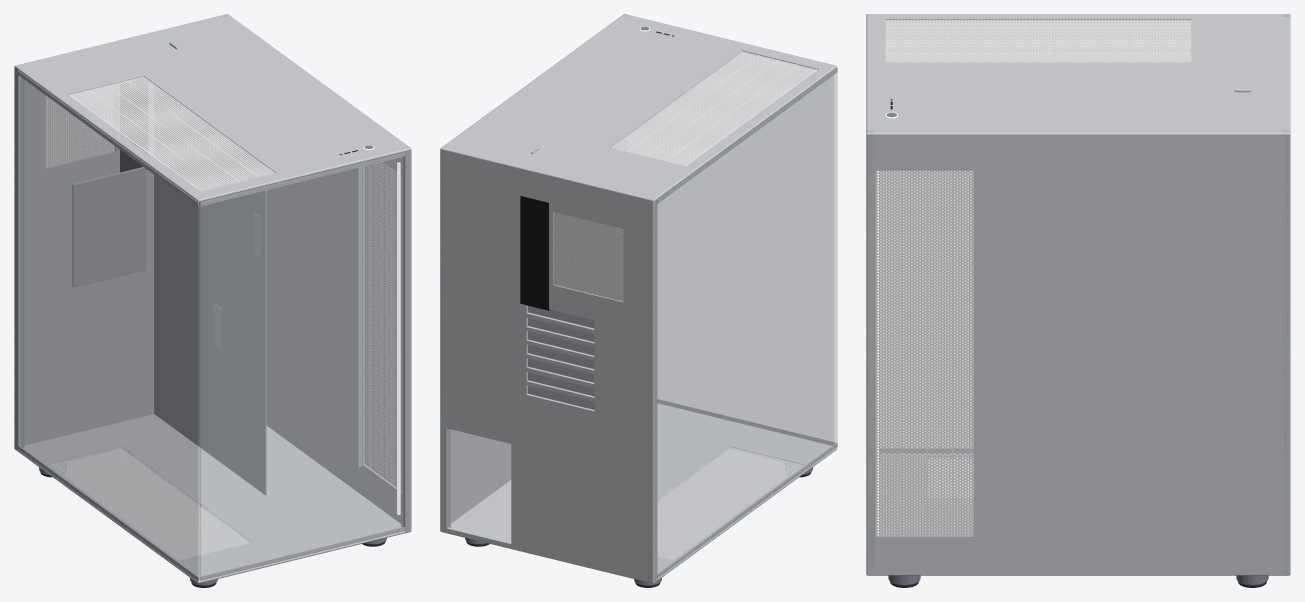
Rendered from case-bitlab-tower.glb.
3 renders of one model, left to right at view 1: azimuth 30°, elevation 25°; view 2: azimuth 150°, elevation 25°; view 3: azimuth 270°, elevation 25°, orthographic. The views are drawn at different scales.
Parts seen in each view (by area): view 1: case_CaseSolid, glass_front, glass_side, case_Perforated, case_RGB; view 2: case_CaseSolid, glass_side, glass_front, case_Perforated; view 3: case_CaseSolid, case_Perforated, glass_side, case_RGB.
Part boxes in pixels (bbox=[...]): case_CaseSolid: bbox=[14, 14, 411, 587]; glass_front: bbox=[200, 153, 403, 579]; glass_side: bbox=[19, 73, 200, 580]; case_Perforated: bbox=[45, 76, 401, 560]; case_RGB: bbox=[363, 145, 400, 514]; case_CaseSolid: bbox=[440, 14, 837, 587]; glass_side: bbox=[657, 69, 837, 576]; glass_front: bbox=[657, 75, 834, 445]; case_Perforated: bbox=[554, 51, 817, 560]; case_CaseSolid: bbox=[866, 14, 1290, 587]; case_Perforated: bbox=[875, 20, 1191, 536]; glass_side: bbox=[880, 171, 973, 453]; case_RGB: bbox=[877, 112, 897, 535].
Size of the model in its own units: 0.335 by 0.602 by 0.5.
Materials: 4 (1 with a texture image).
